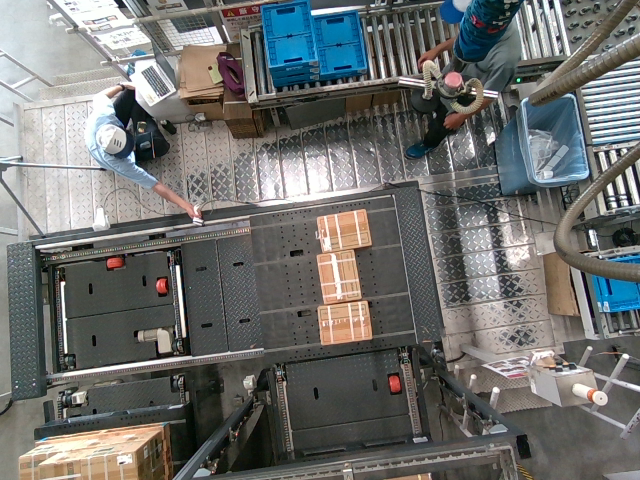box: (315, 249, 360, 302), (316, 210, 371, 246), (316, 305, 371, 341)
